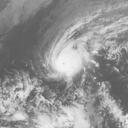cyclone: (53, 47, 83, 78)
